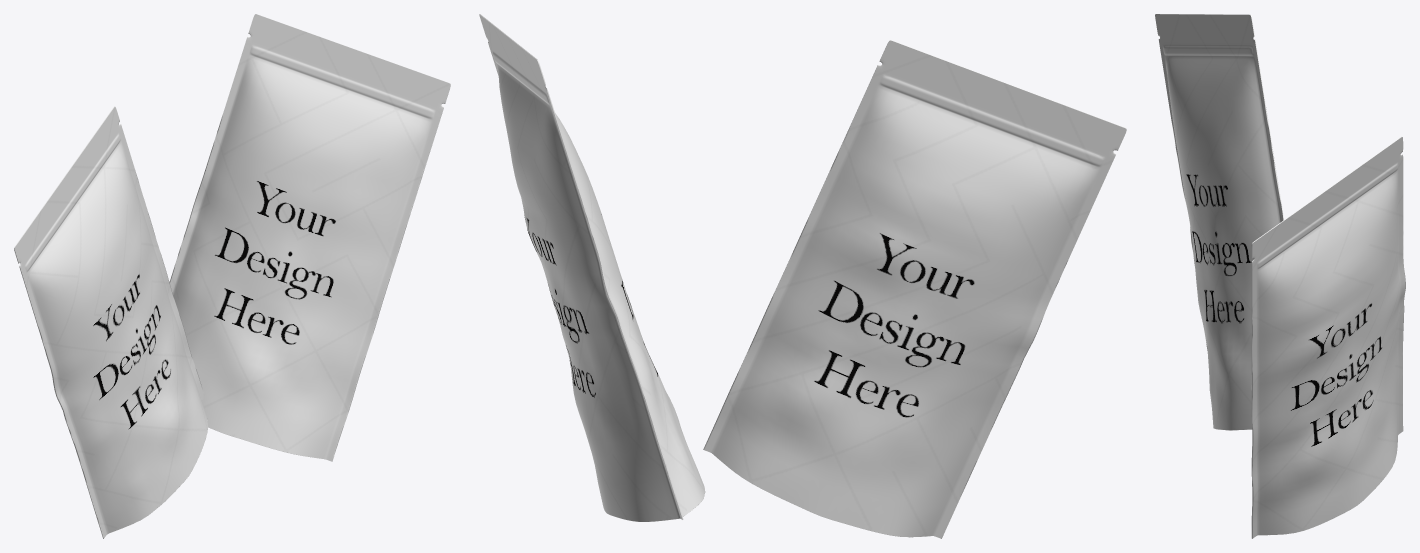
File: Zip Angle-3.glb
3 renders of one model, left to right at view 1: azimuth 30°, elevation 25°; view 2: azimuth 150°, elevation 25°; view 3: azimuth 270°, elevation 25°, orthographic. The views are drawn at different scales.
Parts seen in each view (by area): view 1: ATR001_Doypack_0.001, ATR001_Doypack_0; view 2: ATR001_Doypack_0, ATR001_Doypack_0.001; view 3: ATR001_Doypack_0.001, ATR001_Doypack_0.
Boxes of the visible parts, <box> form: ATR001_Doypack_0.001: <box>169,14,450,461</box>; ATR001_Doypack_0: <box>14,106,207,538</box>; ATR001_Doypack_0: <box>703,40,1126,538</box>; ATR001_Doypack_0.001: <box>479,14,705,521</box>; ATR001_Doypack_0.001: <box>1251,136,1405,538</box>; ATR001_Doypack_0: <box>1155,14,1283,430</box>.
Size of the model in its own units: 0.4245 by 0.3471 by 0.1874.
Materials: 1 (1 with a texture image).
